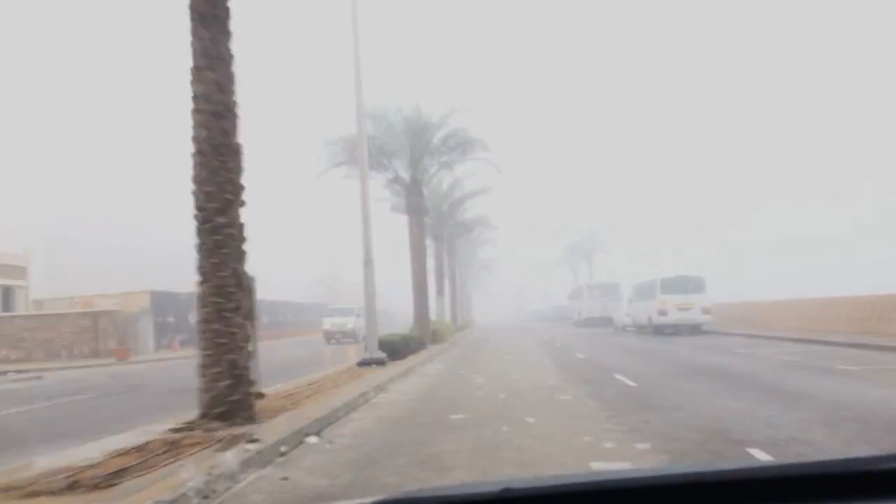bus: (627, 272, 712, 337), (565, 280, 623, 327)
car: (320, 302, 373, 344)
